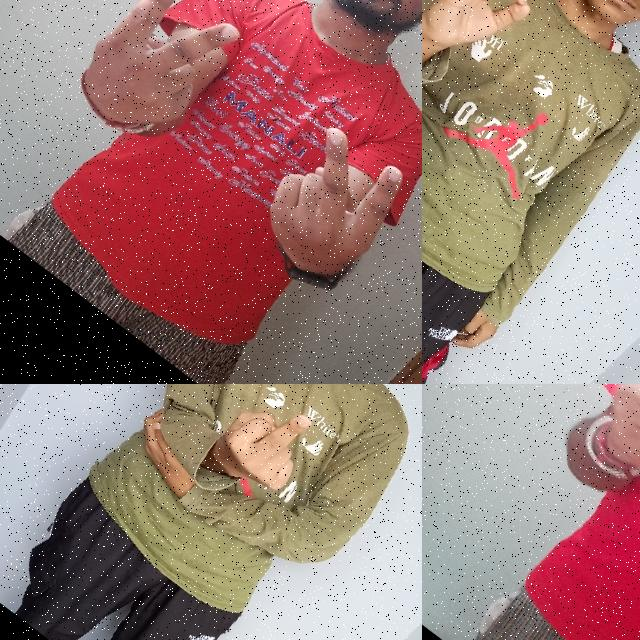Dulya: (570, 384, 640, 493)
Middle Finger: (198, 384, 335, 518)
Okay: (422, 0, 578, 99)
Reversed Victory: (50, 0, 258, 175), (235, 110, 422, 300)
